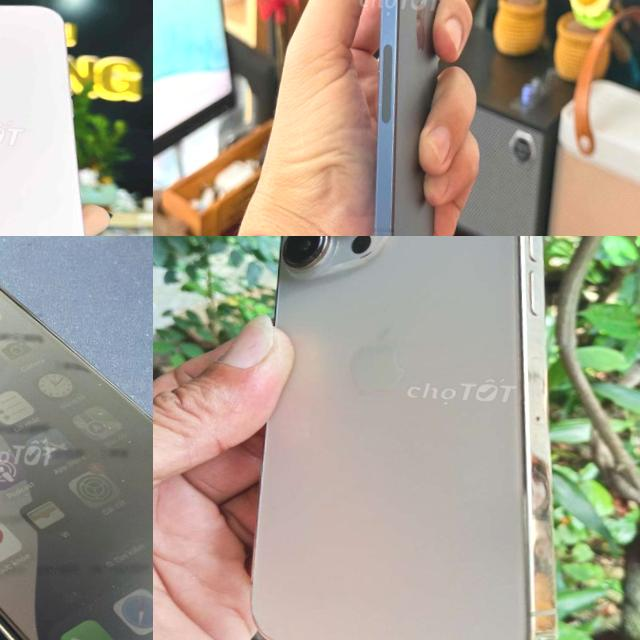scratch: (376, 64, 382, 76), (376, 99, 383, 108), (388, 116, 393, 122)
